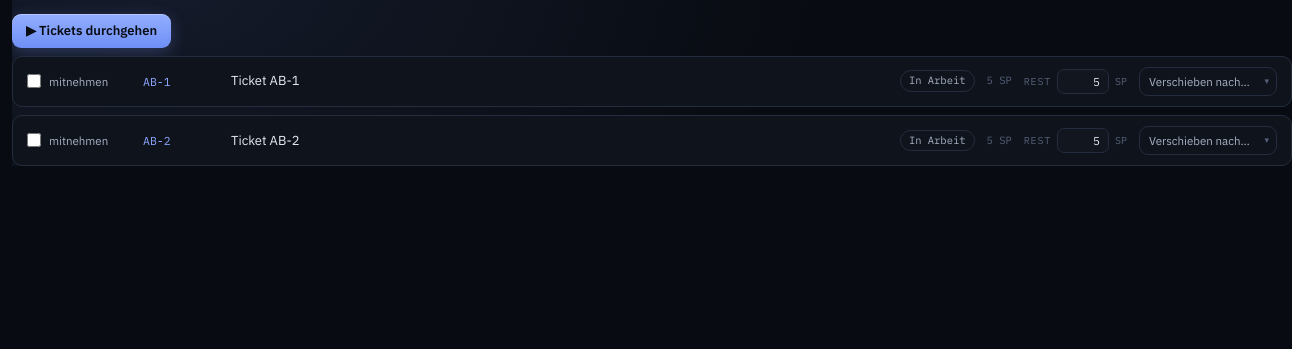
it: CarryOverList Durchgeh-Modus › startet mit dem ersten Ticket und lädt dessen Jira-Beschreibung
Step 1. Click the button "▶ Tickets durchgehen" → (92, 31), box top-left (12, 14), bottom-right (171, 48)
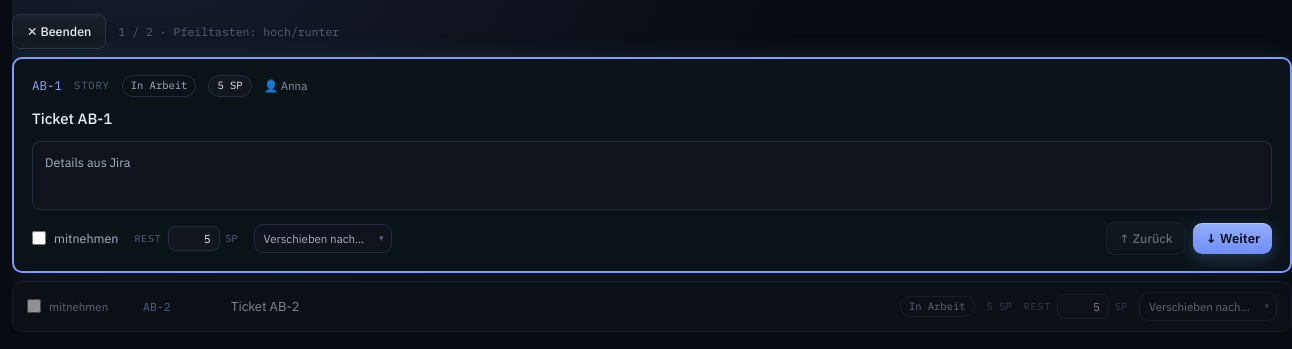
Expected: the text "1 / 2" is shown, top-left (118, 23), bottom-right (339, 40)
Expected: the button "↓ Weiter" is shown, top-left (1194, 223), bottom-right (1272, 254)
Expected: the text "Details aus Jira" is shown, top-left (32, 141), bottom-right (1272, 210)
